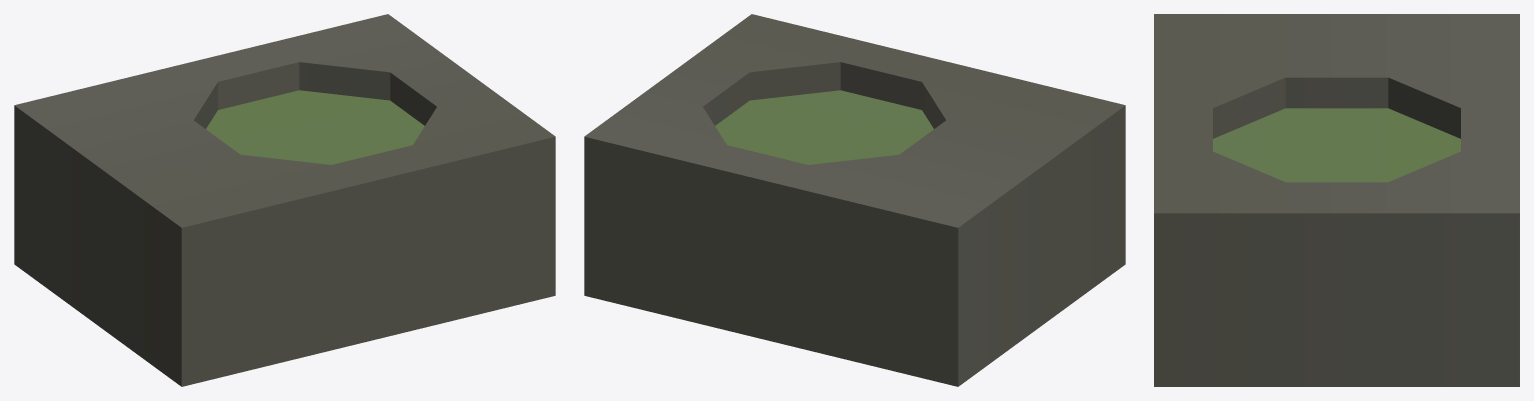
The model's file is HousePart_02.fbx.
3 views of the same model, side by side, from view 1: azimuth 30°, elevation 25°; view 2: azimuth 150°, elevation 25°; view 3: azimuth 270°, elevation 25° (orthographic). The views are drawn at different scales.
Parts seen in each view (by area): view 1: HousePart_02; view 2: HousePart_02; view 3: HousePart_02.
Part boxes in pixels (left/top/right/bottom): HousePart_02: left=14, top=14, right=555, bottom=386; HousePart_02: left=584, top=14, right=1125, bottom=386; HousePart_02: left=1154, top=14, right=1519, bottom=386.
Bounding box in the file's own units: 0.798 × 0.3243 × 0.6192.
